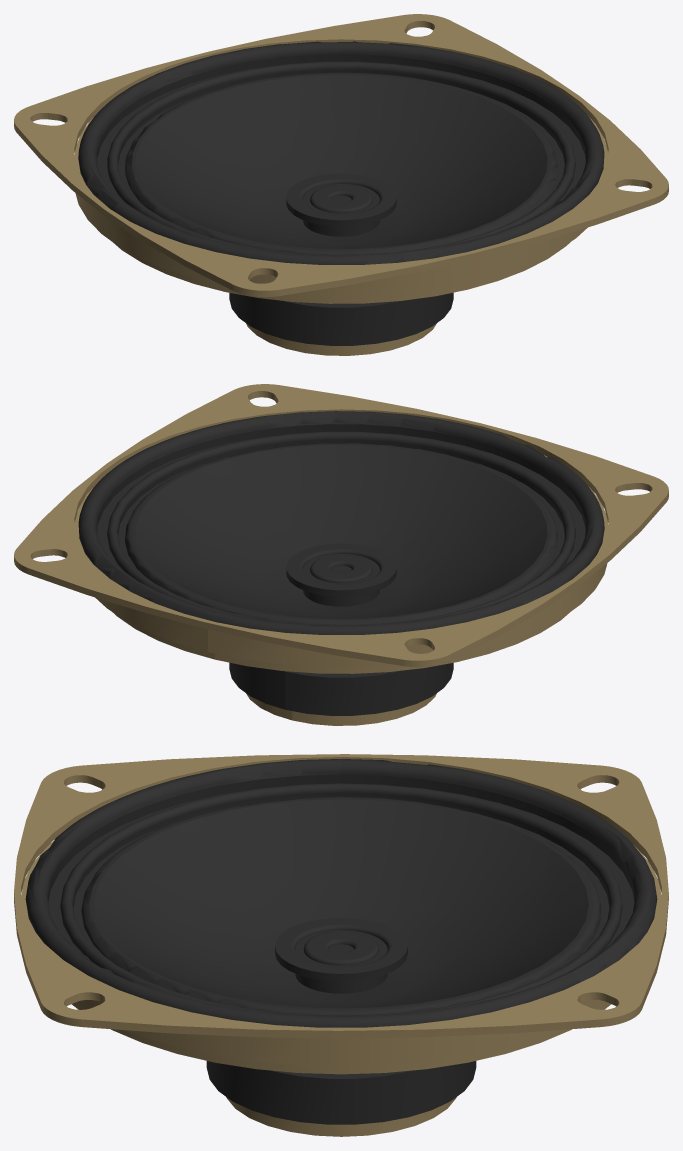
Rendered from ada-1313.glb.
The picture shows the model from 3 angles, top to bottom: view 1: azimuth 30°, elevation 25°; view 2: azimuth 150°, elevation 25°; view 3: azimuth 270°, elevation 25°; orthographic projection. The views are drawn at different scales.
Visible parts, largest first — view 1: 0_0_0_0, 0.3333333333333333_0.25_0.08333333333333333_0; view 2: 0_0_0_0, 0.3333333333333333_0.25_0.08333333333333333_0; view 3: 0_0_0_0, 0.3333333333333333_0.25_0.08333333333333333_0.
Part boxes in pixels (<box>): 0_0_0_0: <box>78,41,604,345</box>; 0.3333333333333333_0.25_0.08333333333333333_0: <box>14,14,668,355</box>; 0_0_0_0: <box>78,411,604,715</box>; 0.3333333333333333_0.25_0.08333333333333333_0: <box>14,384,668,725</box>; 0_0_0_0: <box>25,759,657,1124</box>; 0.3333333333333333_0.25_0.08333333333333333_0: <box>14,754,668,1136</box>.
Bounding box in the file's own units: 7.78 × 2.6 × 7.78.
